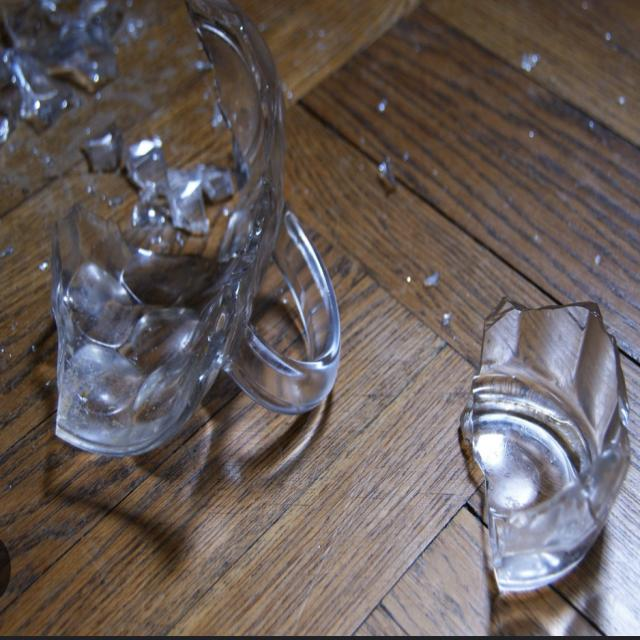PecahanKaca: (48, 0, 341, 460), (458, 295, 630, 597)
